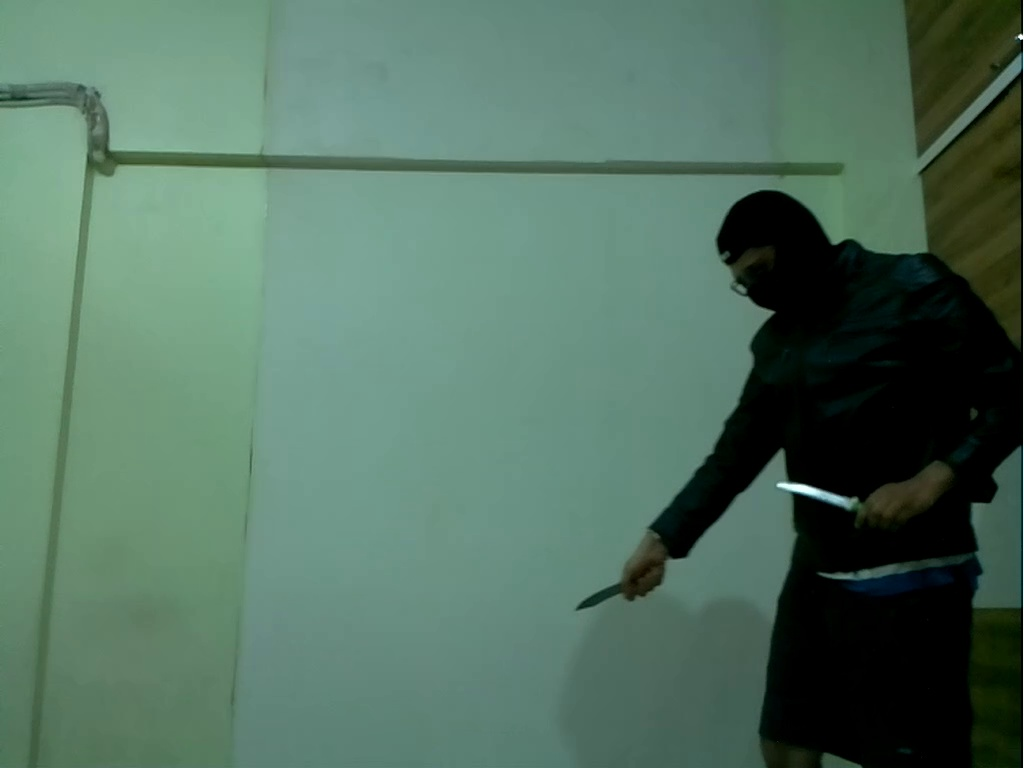knife: (572, 568, 647, 625), (773, 476, 877, 515)
